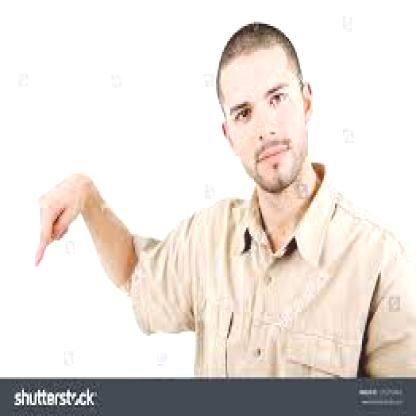Down: (22, 148, 108, 284)
